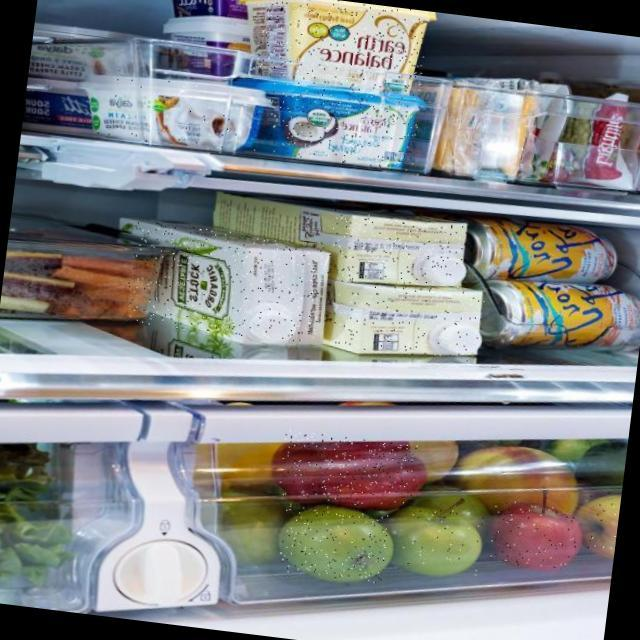Manzana: (277, 502, 391, 584), (391, 504, 484, 579), (488, 499, 581, 572), (580, 488, 621, 555)
Queso: (248, 0, 429, 94), (89, 71, 268, 156), (265, 78, 421, 171)
